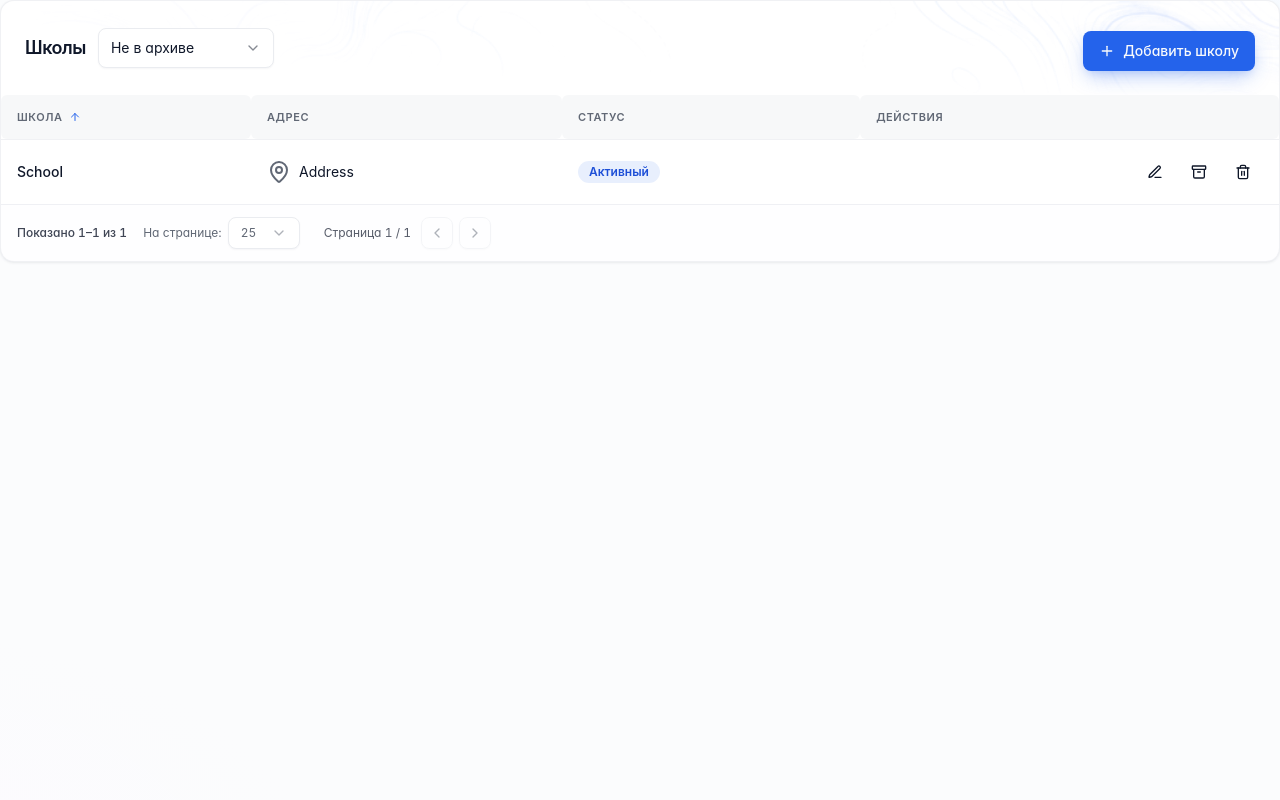
archives only after confirmation, mentioning the rooms, and refreshes the complete configuration
Step 1. Click the button named "Архивировать школу" → {"x": 1199, "y": 172}, box x1=1179 y1=152 x2=1219 y2=192
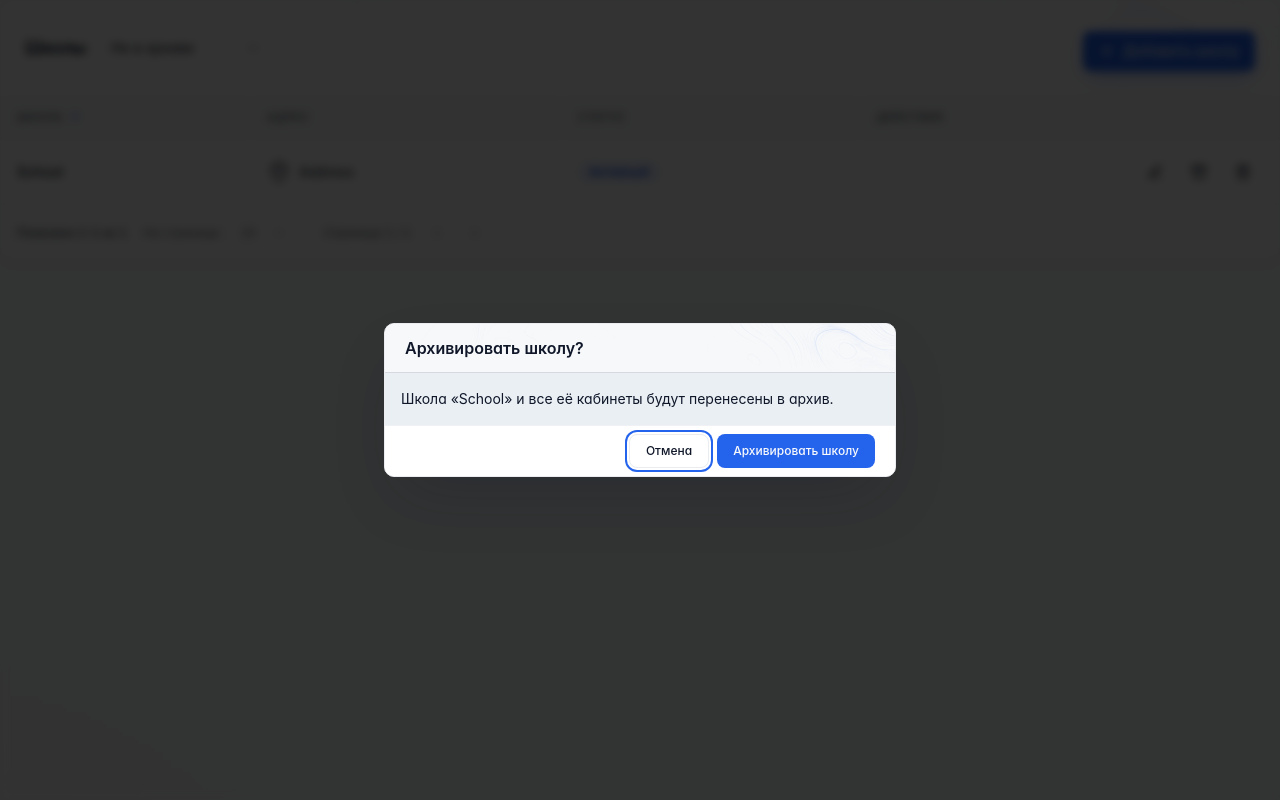
Step 2. Click the button "Архивировать школу" → {"x": 796, "y": 451}, box x1=717 y1=434 x2=875 y2=468
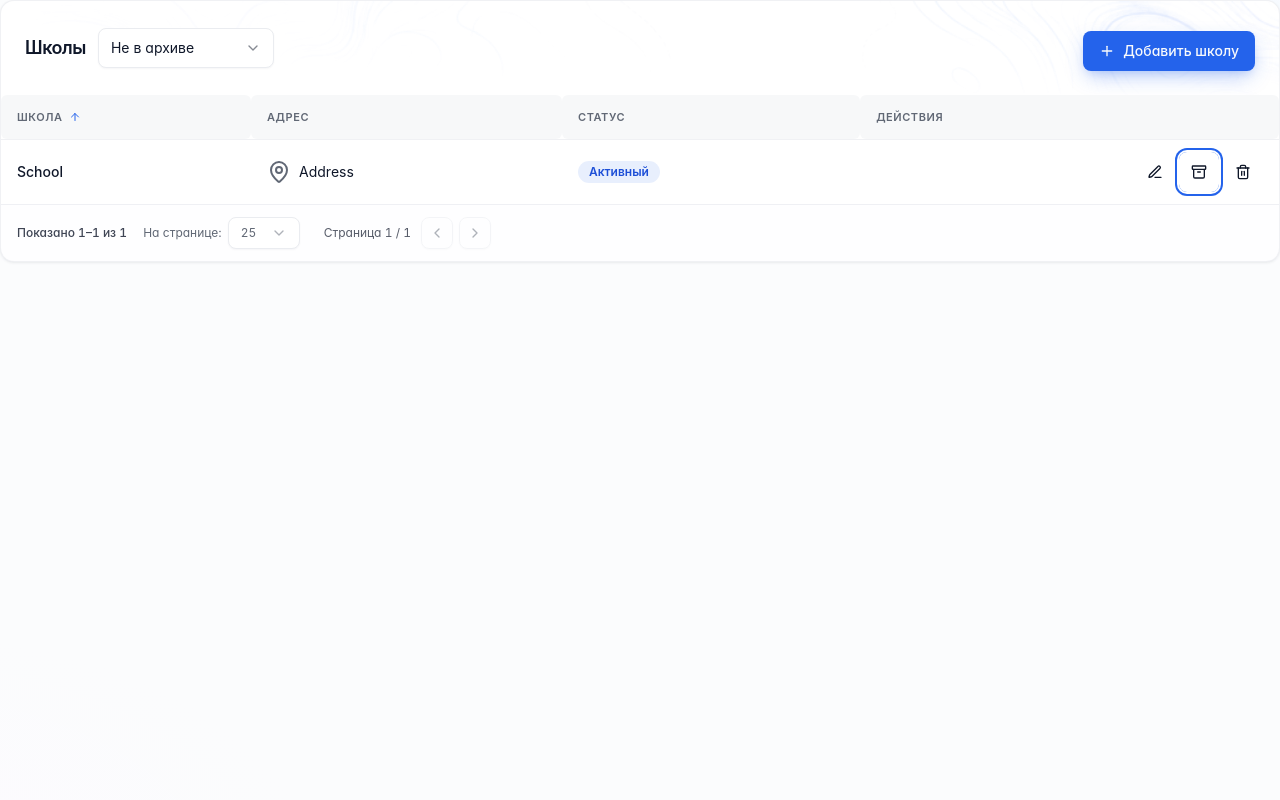
Check: the dialog is gone
